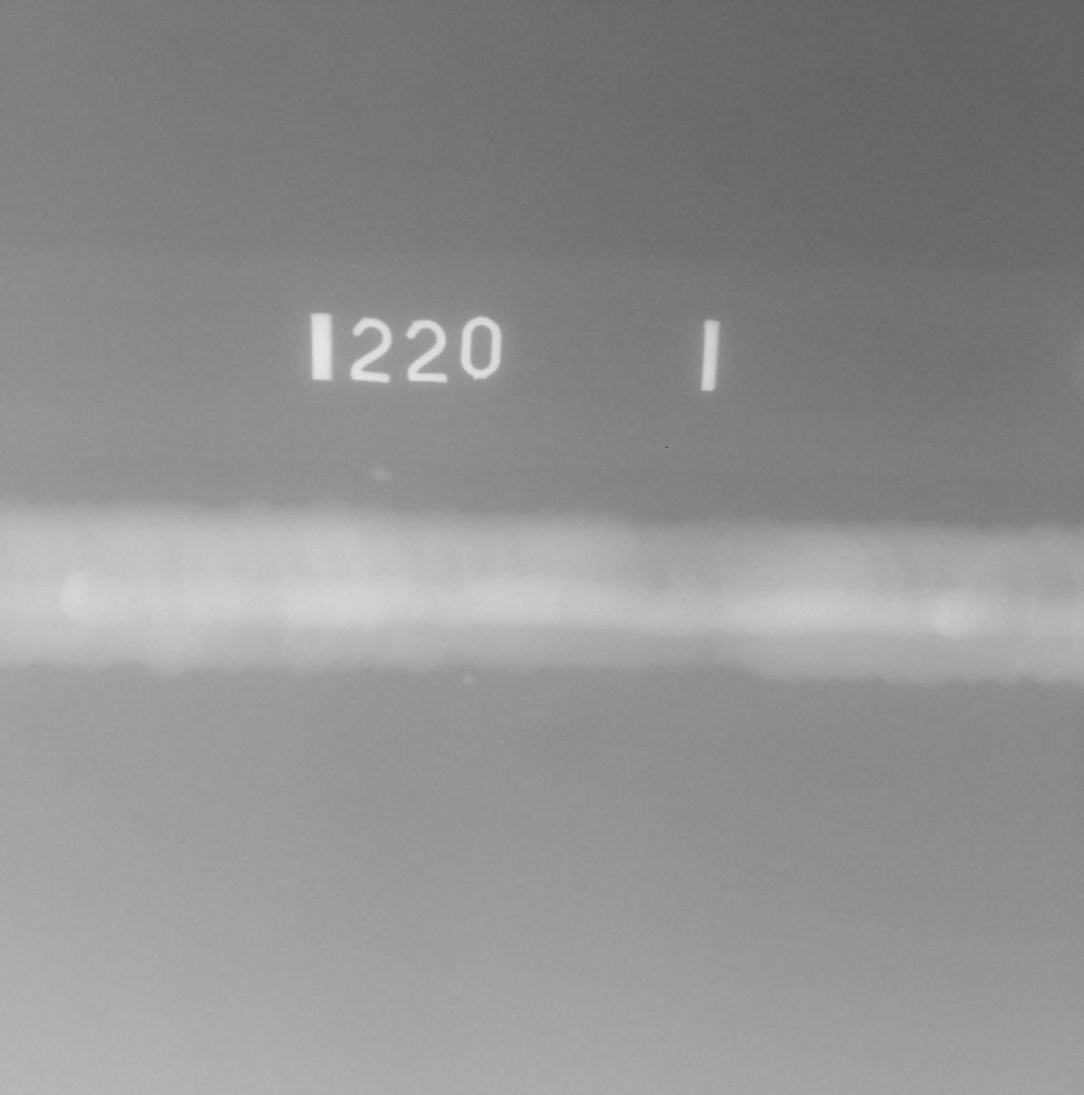Inclusion: (107, 571, 117, 575)
Pore/Porosity: (572, 565, 578, 569), (405, 609, 409, 614), (558, 603, 563, 606), (145, 617, 149, 620), (131, 601, 135, 603)
